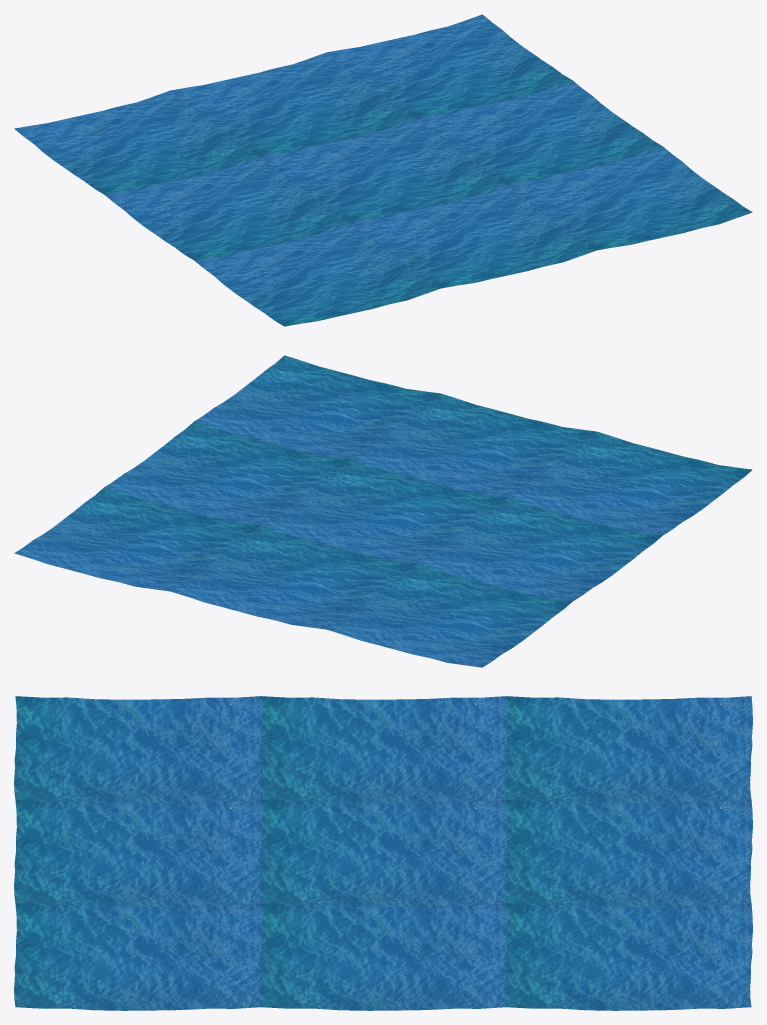
File: ocean_000195.obj
3 views of the same model, one above another, from view 1: azimuth 30°, elevation 25°; view 2: azimuth 150°, elevation 25°; view 3: azimuth 270°, elevation 25° (orthographic). The views are drawn at different scales.
Visible parts, largest first — view 1: Ocean_Plan.001; view 2: Ocean_Plan.001; view 3: Ocean_Plan.001.
Part boxes in pixels (bbox=[...]): Ocean_Plan.001: bbox=[14, 14, 752, 326]; Ocean_Plan.001: bbox=[14, 355, 752, 667]; Ocean_Plan.001: bbox=[14, 696, 752, 1010].
Bounding box in the file's own units: 109072 × 1560 × 109397.
Materials: 1 (1 with a texture image).
